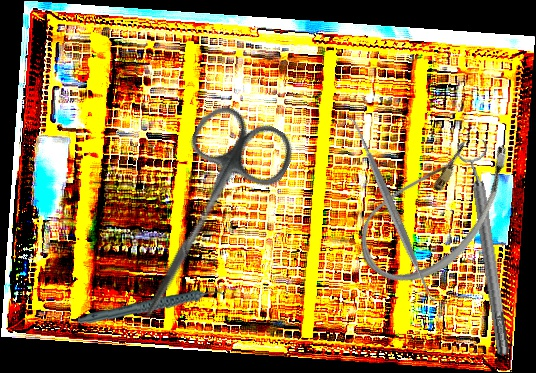Cannula: (343, 106, 529, 307)
Fixation Ring: (455, 137, 519, 358)
Handpiece: (77, 285, 226, 330)
Iris Scissors: (106, 95, 302, 344)
Spatula Surgical: (341, 110, 442, 307)
